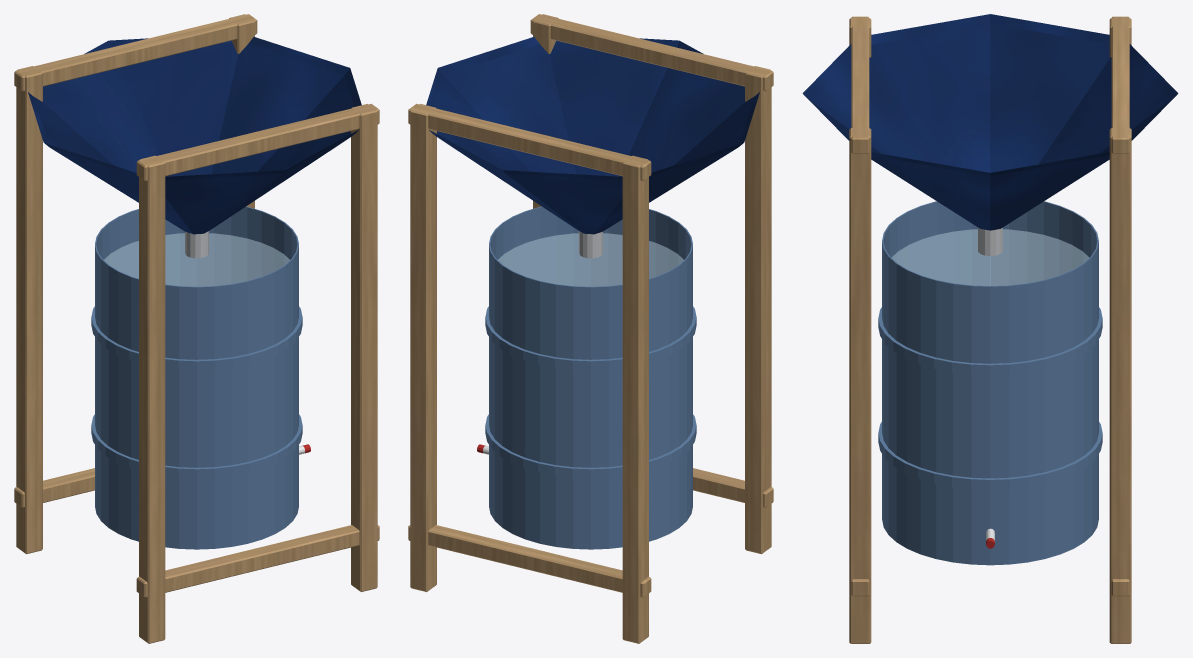
Rendered from coletor_chuva.glb.
The picture shows the model from 3 angles, left to right: view 1: azimuth 30°, elevation 25°; view 2: azimuth 150°, elevation 25°; view 3: azimuth 270°, elevation 25°; orthographic projection. The views are drawn at different scales.
Visible parts, largest first — view 1: coletor_chuva_tinta_azul, coletor_chuva_madeira_crua, coletor_chuva_lona_azul, coletor_chuva_agua, coletor_chuva_aco; view 2: coletor_chuva_tinta_azul, coletor_chuva_madeira_crua, coletor_chuva_lona_azul, coletor_chuva_agua, coletor_chuva_aco; view 3: coletor_chuva_tinta_azul, coletor_chuva_lona_azul, coletor_chuva_madeira_crua, coletor_chuva_agua, coletor_chuva_aco.
Part boxes in pixels (left/top/right/bottom): coletor_chuva_tinta_azul: left=91, top=206, right=302, bottom=549; coletor_chuva_madeira_crua: left=14, top=14, right=379, bottom=643; coletor_chuva_lona_azul: left=28, top=37, right=361, bottom=234; coletor_chuva_agua: left=104, top=233, right=289, bottom=286; coletor_chuva_aco: left=185, top=231, right=208, bottom=258; coletor_chuva_tinta_azul: left=485, top=206, right=696, bottom=549; coletor_chuva_madeira_crua: left=408, top=14, right=773, bottom=643; coletor_chuva_lona_azul: left=426, top=37, right=759, bottom=234; coletor_chuva_agua: left=498, top=233, right=683, bottom=286; coletor_chuva_aco: left=579, top=231, right=602, bottom=258; coletor_chuva_tinta_azul: left=878, top=201, right=1102, bottom=565; coletor_chuva_lona_azul: left=802, top=14, right=1178, bottom=230; coletor_chuva_madeira_crua: left=849, top=16, right=1131, bottom=643; coletor_chuva_agua: left=892, top=229, right=1088, bottom=285; coletor_chuva_aco: left=978, top=227, right=1002, bottom=255.
Size of the model in its own units: 1.04 by 1.55 by 1.04.
7 materials, 2 textured.
